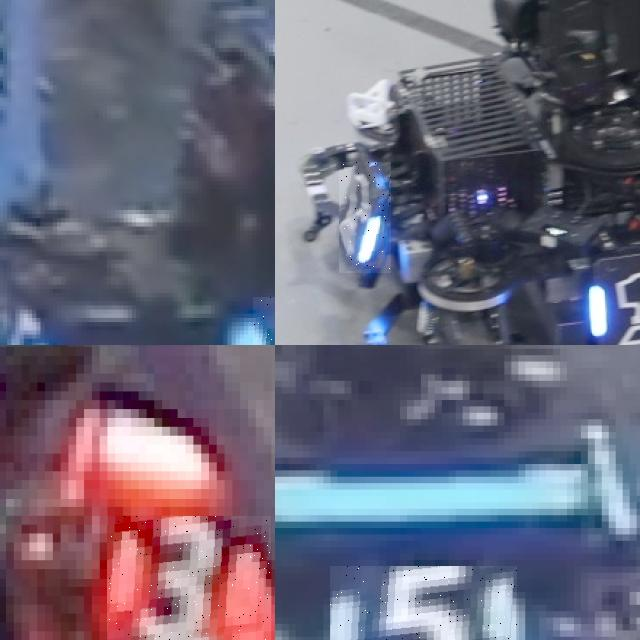B5: (330, 566, 518, 640)
Bs: (339, 162, 391, 273), (584, 257, 640, 345)
R3: (107, 515, 271, 640)
